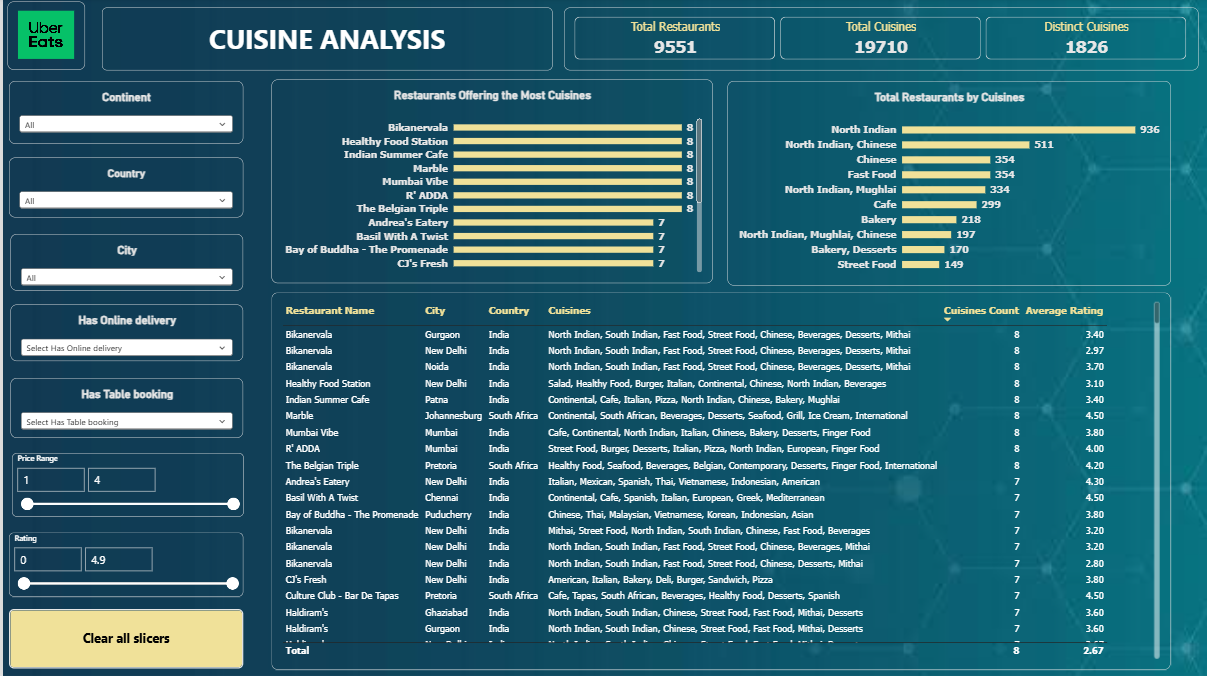

The dashboard page shown, as its layout file describes it:
{"tool":"powerbi","page":{"name":"Cuisine Analysis","canvas":[1920,1080],"ordinal":4},"visuals":[{"type":"image","box":[0,0,1920,1080],"z":0},{"type":"image","box":[8.3,8.3,123.3,108.3],"z":1000},{"type":"listSlicer","fields":{"Values":["Append1.Continent Hierarchy.Continent"]},"box":[10,132.5,372.5,100],"z":2000},{"type":"listSlicer","fields":{"Values":["Append1.Continent Hierarchy.Country"]},"box":[10,255,372.5,95],"z":3000},{"type":"listSlicer","fields":{"Values":["Append1.Continent Hierarchy.City"]},"box":[12.5,375.8,370,90],"z":4000},{"type":"listSlicer","fields":{"Values":["KPIs.Has Online delivery"]},"box":[12.5,490,370,90],"z":5000},{"type":"listSlicer","fields":{"Values":["KPIs.Has Table booking"]},"box":[12.5,605,370,95],"z":6000},{"type":"slicer","title":"Rating","fields":{"Values":["KPIs.Price range"]},"box":[13.3,725.6,368.9,101.1],"z":7000},{"type":"slicer","title":"Rating","fields":{"Values":["KPIs.Aggregate rating"]},"box":[10,852.7,372.7,101.8],"z":8000},{"type":"actionButton","box":[10,972.7,372.7,94.5],"z":9000},{"type":"textbox","box":[156.7,16.7,716.7,100],"z":10000},{"type":"cardVisual","fields":{"Data":["Rest Measures.Total Restaurants","Sum(Append1.Cuisines Count)","Rest Measures.Distinct Cuisines"]},"box":[892.3,16.7,1009.2,100.2],"z":11000},{"type":"clusteredBarChart","title":"Restaurants Offering the Most Cuisines","fields":{"Category":["Append1.Restaurant Name"],"Y":["Max(Append1.Cuisines Count)"]},"box":[426,132,702,324],"z":12000},{"type":"tableEx","fields":{"Values":["Append1.Restaurant Name","Append1.Continent Hierarchy.City","Append1.Continent Hierarchy.Country","Append1.Cuisines","Max(Append1.Cuisines Count)","Rest Measures.Average Rating"]},"box":[426.7,470,1430,600],"z":13000},{"type":"clusteredBarChart","fields":{"Category":["Append1.Cuisines"],"Y":["Rest Measures.Total Restaurants"]},"box":[1151.2,132.5,705,325],"z":14000}]}

Visuals, with their boxes in screenshot pixels (x1, y1, x2, y2), scaled from the page's 1920x1080 canvas onto the 1207x676 screenshot:
image: l=0, t=0, r=1206, b=675
image: l=5, t=5, r=83, b=73
listSlicer - Append1.Continent Hierarchy.Continent: l=6, t=83, r=240, b=146
listSlicer - Append1.Continent Hierarchy.Country: l=6, t=160, r=240, b=219
listSlicer - Append1.Continent Hierarchy.City: l=8, t=235, r=240, b=292
listSlicer - KPIs.Has Online delivery: l=8, t=307, r=240, b=363
listSlicer - KPIs.Has Table booking: l=8, t=379, r=240, b=438
"Rating" slicer: l=8, t=454, r=240, b=517
"Rating" slicer: l=6, t=534, r=241, b=597
actionButton: l=6, t=609, r=241, b=668
textbox: l=99, t=10, r=549, b=73
cardVisual - Rest Measures.Total Restaurants x Sum(Append1.Cuisines Count): l=561, t=10, r=1195, b=73
"Restaurants Offering the Most Cuisines" clusteredBarChart: l=268, t=83, r=709, b=285
tableEx - Append1.Restaurant Name x Append1.Continent Hierarchy.City: l=268, t=294, r=1167, b=670
clusteredBarChart - Append1.Cuisines x Rest Measures.Total Restaurants: l=724, t=83, r=1167, b=286
